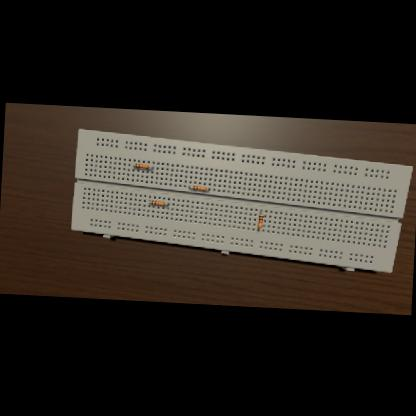breadboard: (70, 128, 414, 274)
resistor: (134, 162, 148, 168), (192, 184, 206, 190), (150, 200, 164, 206), (258, 213, 264, 227)
wire: (148, 166, 154, 168), (206, 188, 210, 190), (164, 202, 168, 204), (260, 210, 262, 214), (257, 228, 259, 230), (132, 164, 134, 164), (188, 186, 192, 186)
